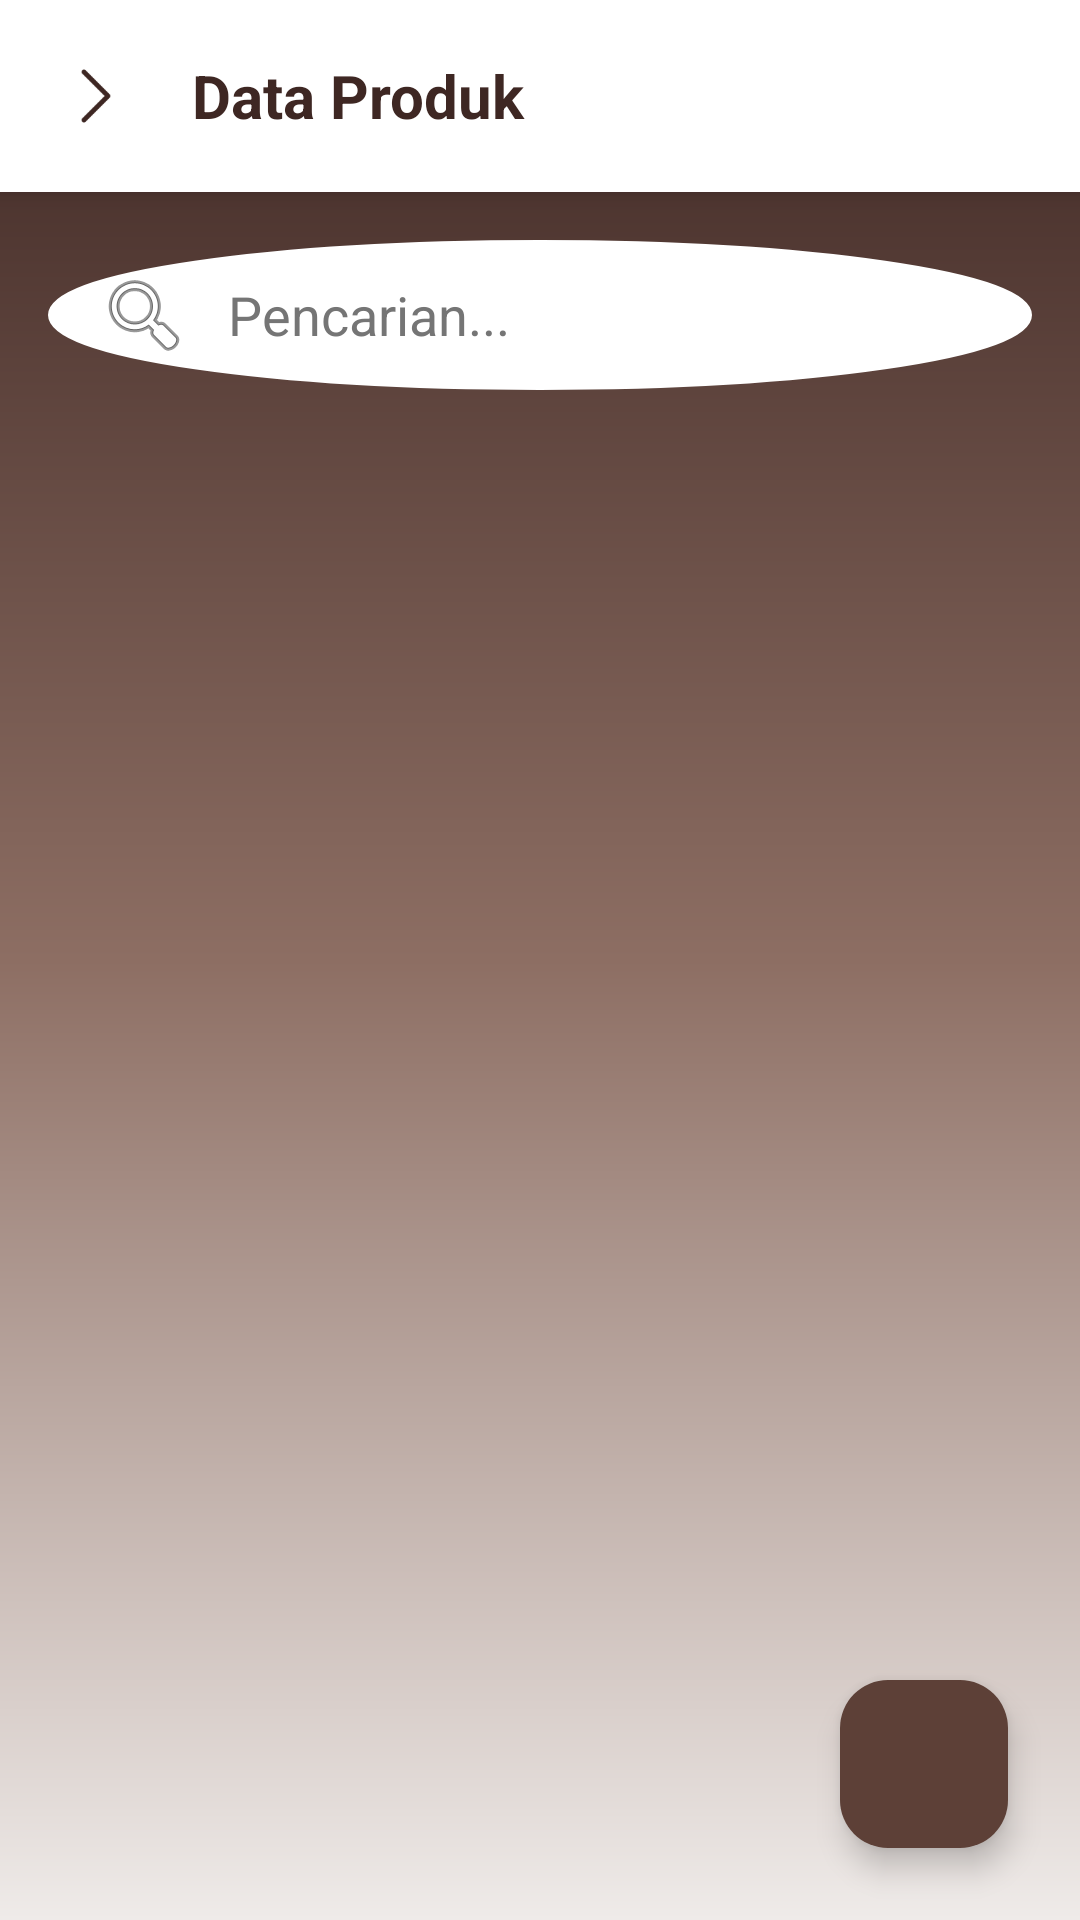

Locate icon controls on the screen. Image size 1080 x 1920, boxes as (x1, y1, x2, y2).
arrow: (81, 69, 111, 123)
